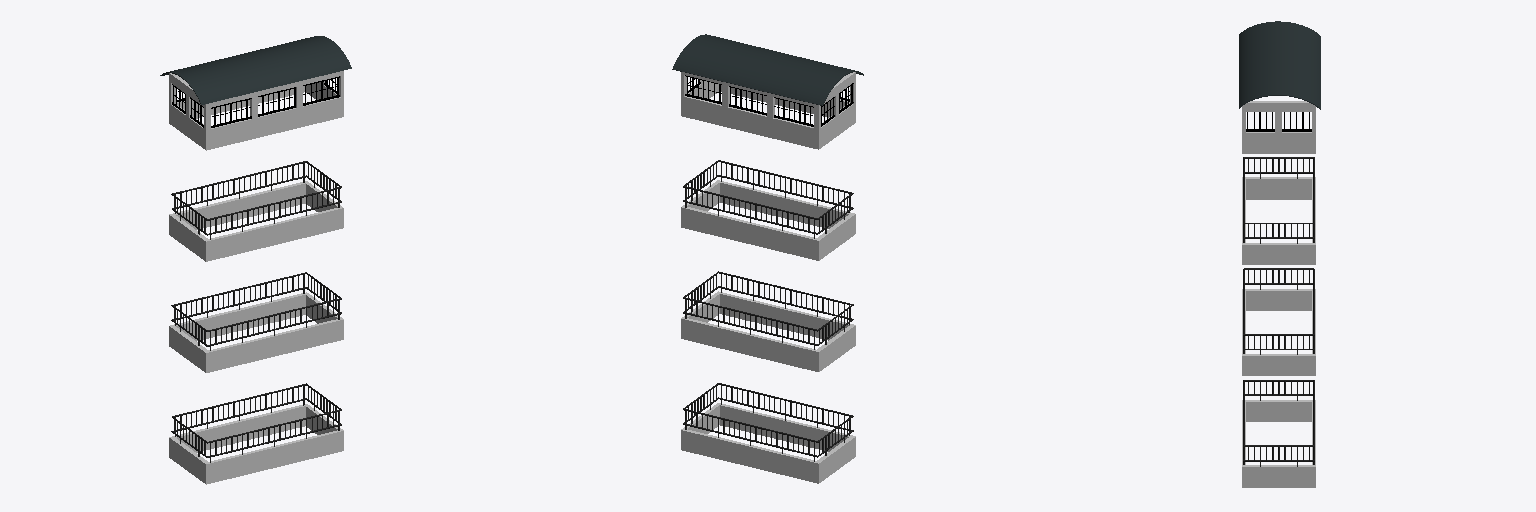
Rendered from balcon_2.obj.
3 views of the same model, side by side, from view 1: azimuth 30°, elevation 25°; view 2: azimuth 150°, elevation 25°; view 3: azimuth 270°, elevation 25° (orthographic).
Parts seen in each view (by area): view 1: BARROTES_PISOS_Cylinder; view 2: BARROTES_PISOS_Cylinder; view 3: BARROTES_PISOS_Cylinder.
Boxes of the visible parts, <box> form: BARROTES_PISOS_Cylinder: <box>160,36,351,484</box>; BARROTES_PISOS_Cylinder: <box>672,34,863,483</box>; BARROTES_PISOS_Cylinder: <box>1239,21,1320,487</box>.
Size of the model in its own units: 7.78 by 19.54 by 3.69.